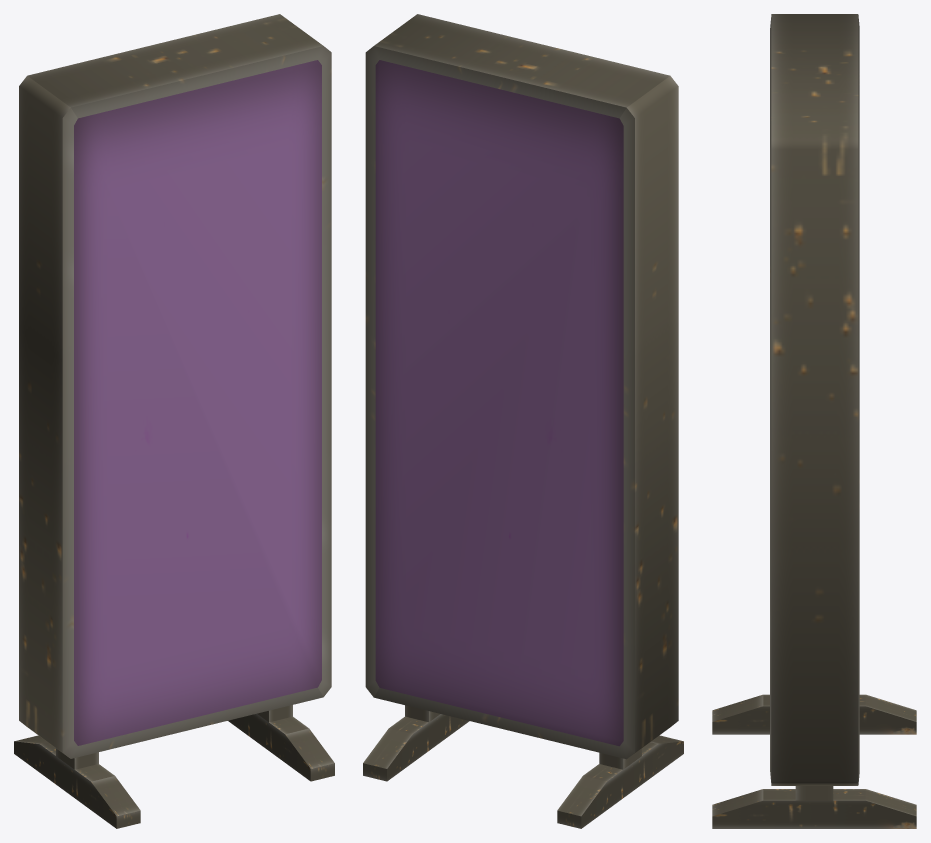
File: menustand02b.fbx
3 renders of one model, left to right at view 1: azimuth 30°, elevation 25°; view 2: azimuth 150°, elevation 25°; view 3: azimuth 270°, elevation 25°, orthographic.
Parts seen in each view (by area): view 1: menustand02b; view 2: menustand02b; view 3: menustand02b.
Part boxes in pixels (x1,y1,x2,y2): menustand02b: [14, 14, 334, 828]; menustand02b: [363, 14, 683, 828]; menustand02b: [712, 14, 916, 828].
Bounding box in the file's own units: 45.6 × 114 × 30.12.
